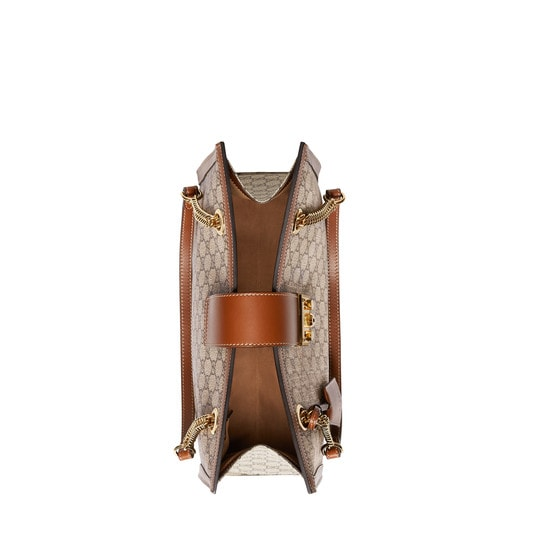Gucci: (150, 138, 364, 487), (199, 236, 238, 393)
